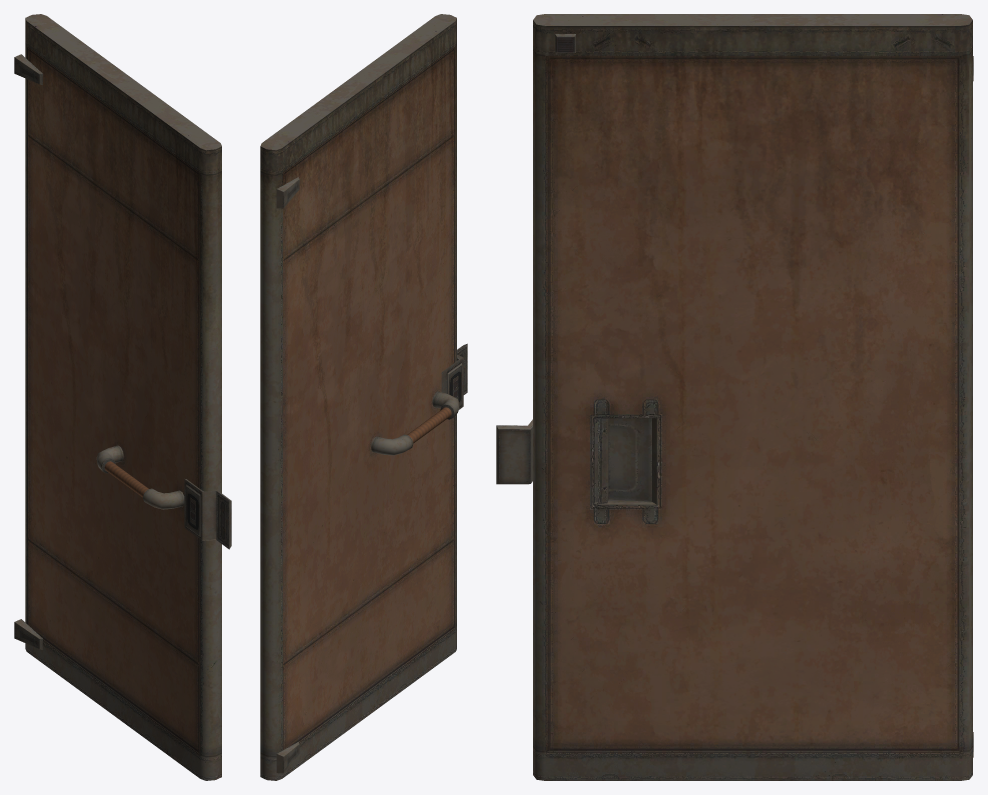
File: toilet_stall_door.DAE
The picture shows the model from 3 angles, left to right: view 1: azimuth 30°, elevation 25°; view 2: azimuth 150°, elevation 25°; view 3: azimuth 270°, elevation 25°; orthographic projection. The views are drawn at different scales.
Parts seen in each view (by area): view 1: Mesh_Door; view 2: Mesh_Door; view 3: Mesh_Door.
Boxes of the visible parts, x1,y1,x2,y2 form: Mesh_Door: [14, 14, 231, 780]; Mesh_Door: [260, 14, 467, 780]; Mesh_Door: [496, 14, 973, 780].
Size of the model in its own units: 0.2093 by 2.49 by 1.43.
